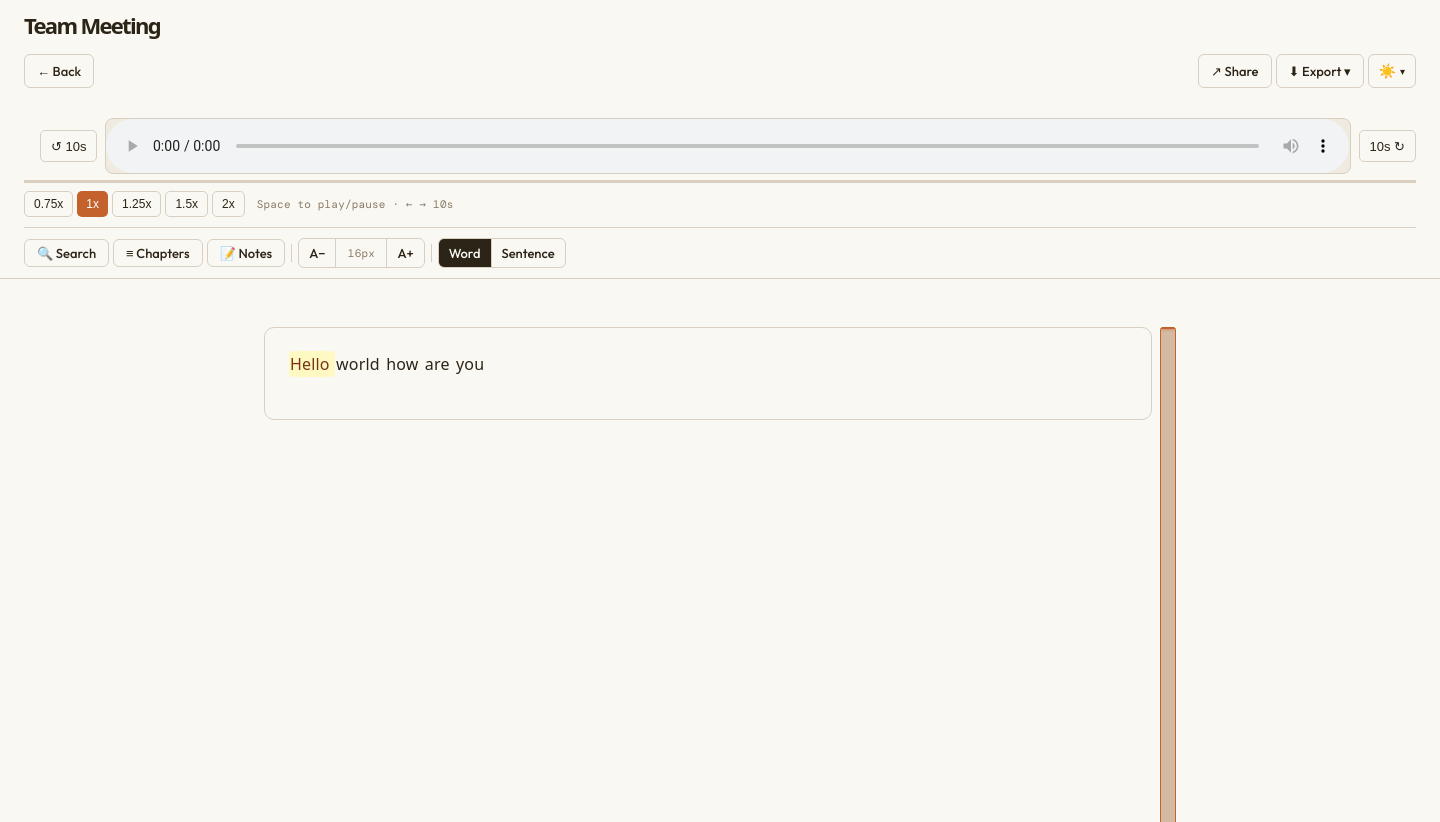
Test: clear button clears search query
Expected: the text "Hello" is shown, [289,351,335,377]
Click the button "🔍 Search".
click(67, 253)  # box [24,239,109,267]
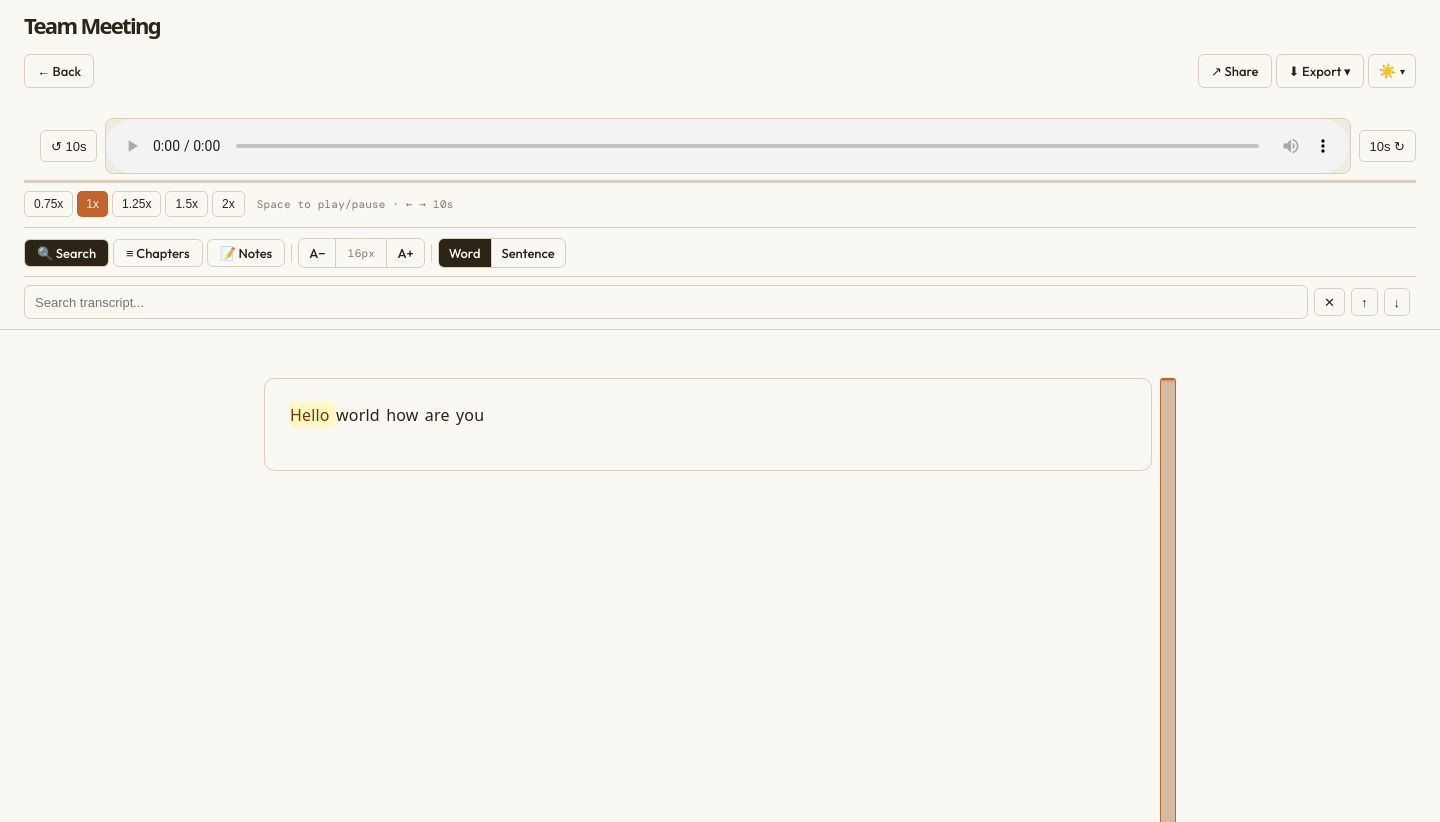
Type "hello" into the field with placeholder "Search transcript...".
click(666, 302); type("hello")  # box [24,285,1308,319]
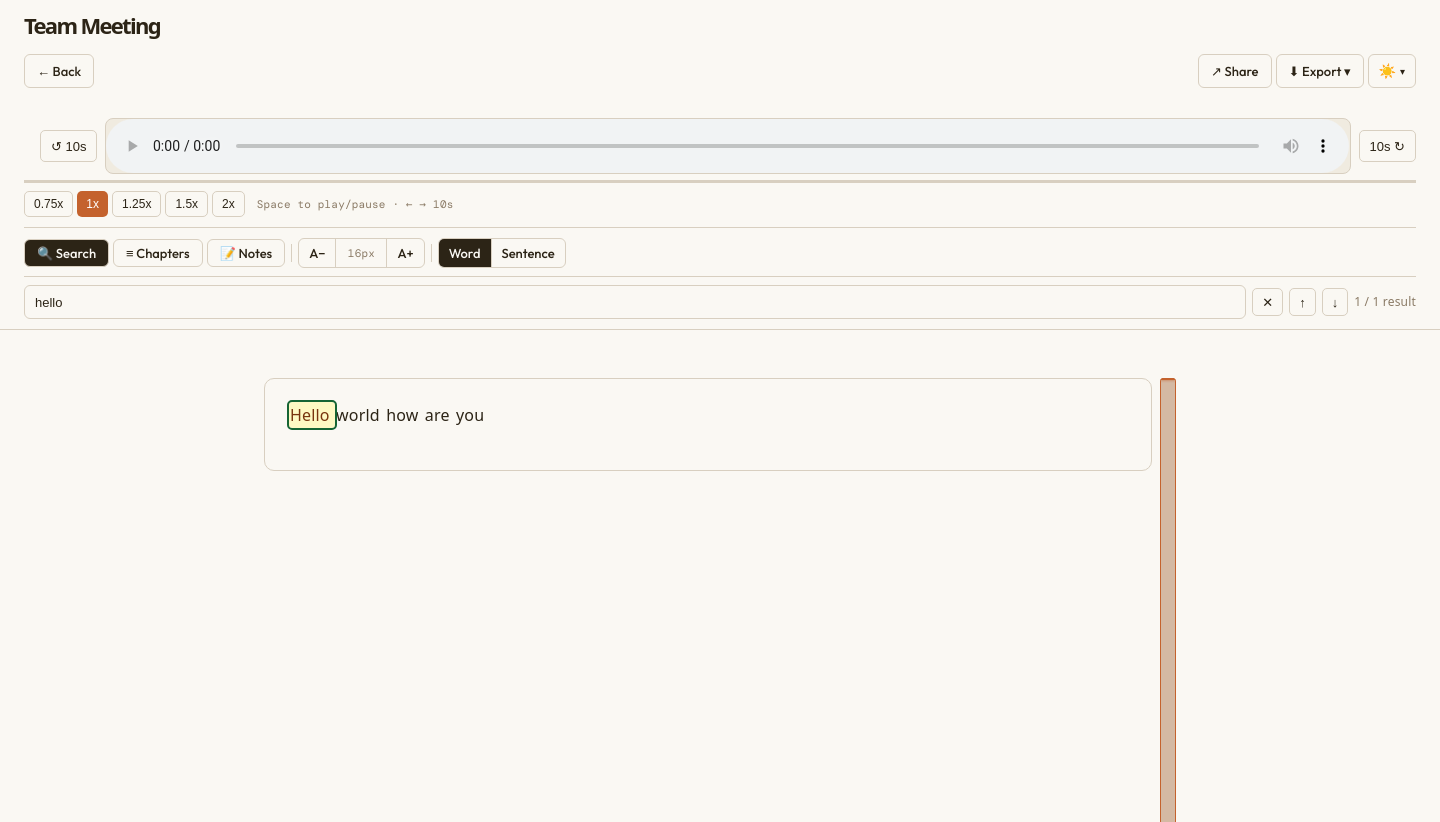
Click the button named "clear search".
click(1268, 302)  # box [1252,288,1283,316]
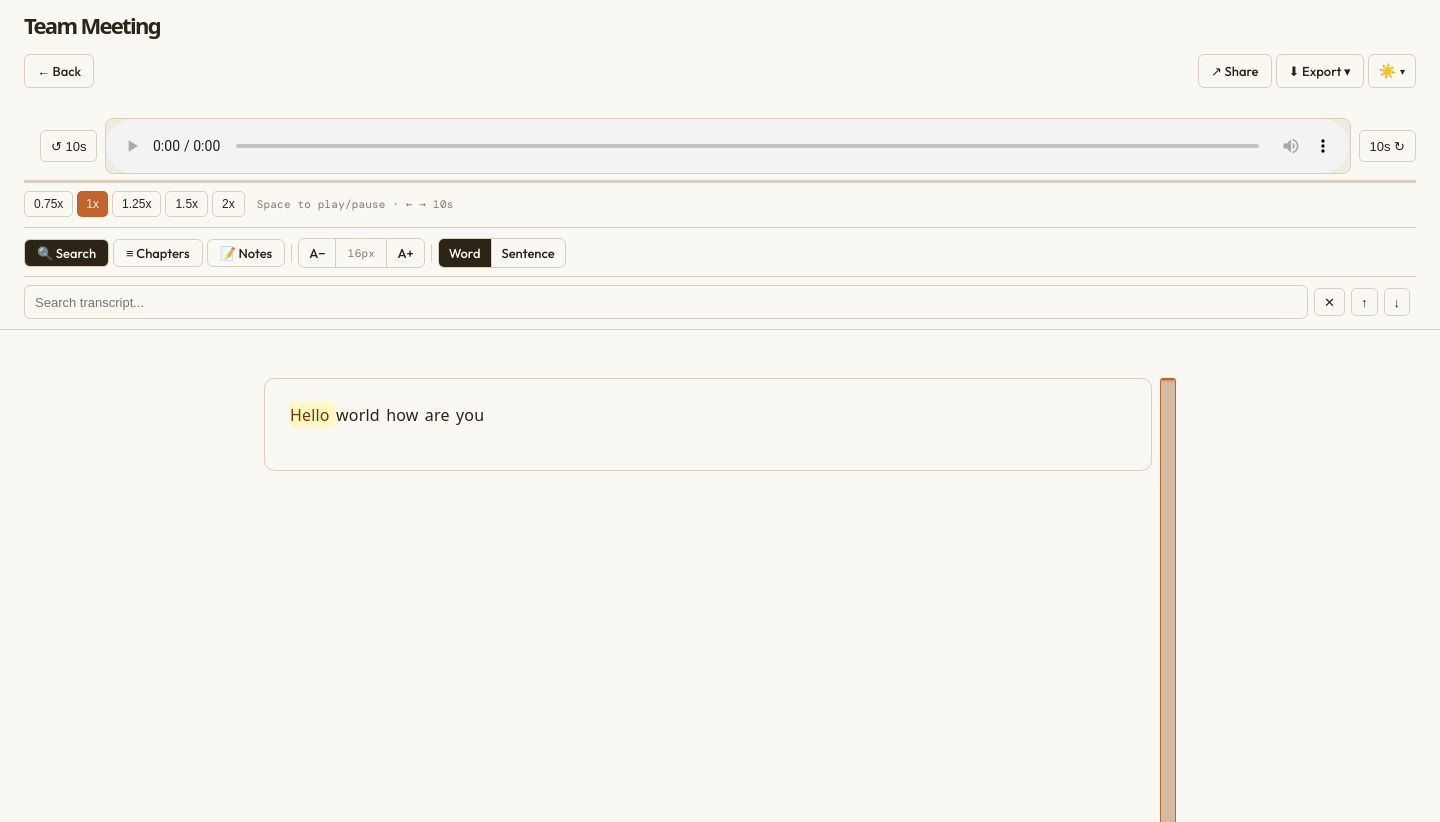
Now the field with placeholder "Search transcript..." is empty, box [24,285,1308,319]
